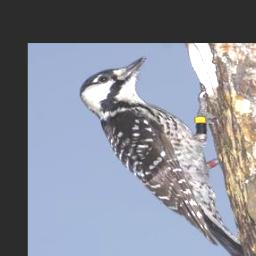Woodpecker: (77, 55, 247, 256)
